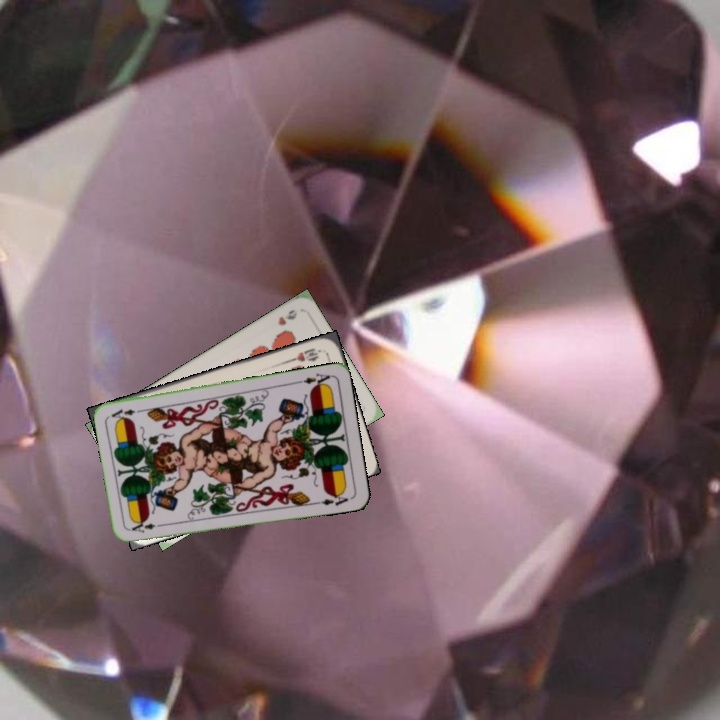EA: (293, 369, 334, 390), (126, 519, 167, 536)
H10: (285, 344, 324, 364)
H9: (274, 305, 300, 328)
